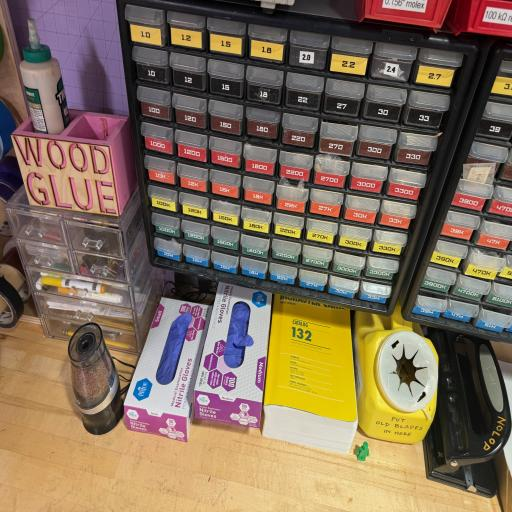Lego-Dude: (354, 439, 369, 461)
